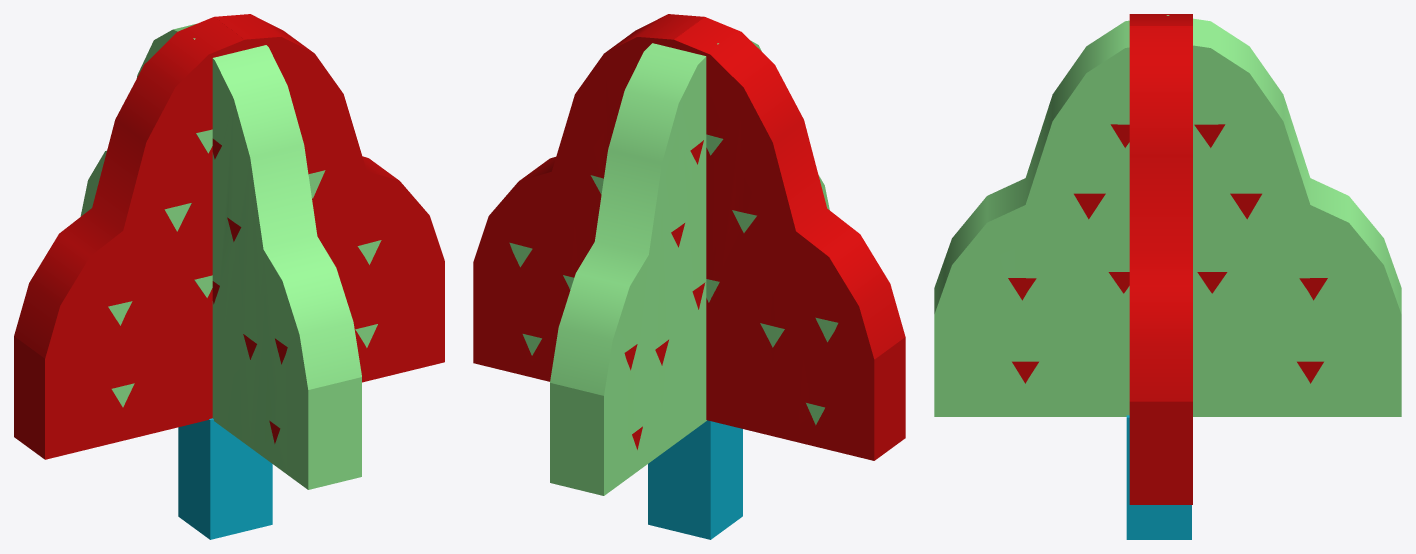
File: Arbre1.FBX
The picture shows the model from 3 angles, left to right: view 1: azimuth 30°, elevation 25°; view 2: azimuth 150°, elevation 25°; view 3: azimuth 270°, elevation 25°; orthographic projection. The views are drawn at different scales.
Visible parts, largest first — view 1: Box005; view 2: Box005; view 3: Box005.
Boxes of the visible parts, x1,y1,x2,y2 form: Box005: [14, 14, 444, 539]; Box005: [473, 14, 905, 539]; Box005: [934, 14, 1401, 539].
Bounding box in the file's own units: 0.1563 × 0.1833 × 0.155.
